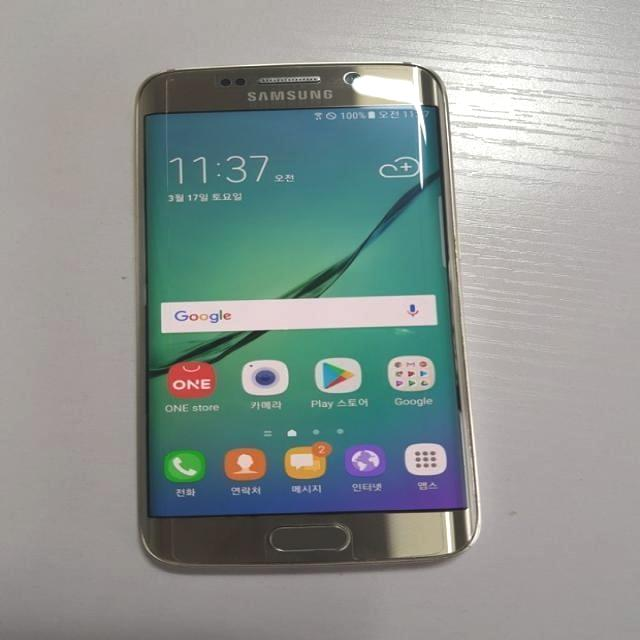lens: (340, 70, 366, 87)
phone: (130, 59, 476, 574)
